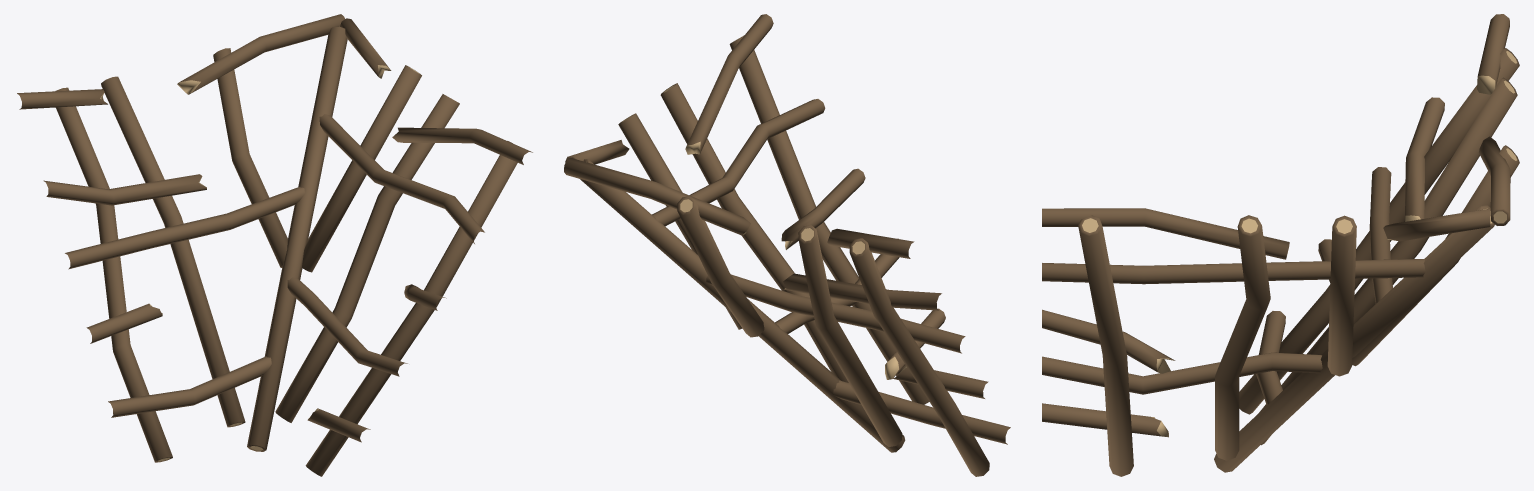
Rendered from rpgpp_av_roof_support_01_6x5x3_corner_01a.gltf.
The picture shows the model from 3 angles, left to right: view 1: azimuth 30°, elevation 25°; view 2: azimuth 150°, elevation 25°; view 3: azimuth 270°, elevation 25°; orthographic projection. The views are drawn at different scales.
Parts seen in each view (by area): view 1: rpgpp_av_roof_support_01_6x5x3_corner_01a; view 2: rpgpp_av_roof_support_01_6x5x3_corner_01a; view 3: rpgpp_av_roof_support_01_6x5x3_corner_01a.
Part boxes in pixels (x1,y1,x2,y2): rpgpp_av_roof_support_01_6x5x3_corner_01a: [17, 14, 532, 476]; rpgpp_av_roof_support_01_6x5x3_corner_01a: [564, 14, 1010, 476]; rpgpp_av_roof_support_01_6x5x3_corner_01a: [1042, 14, 1519, 476].
Size of the model in its own units: 0.0627 by 0.0546 by 0.0623.
Materials: 1 (1 with a texture image).
